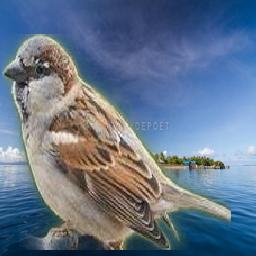Sparrow: (3, 34, 232, 250)
